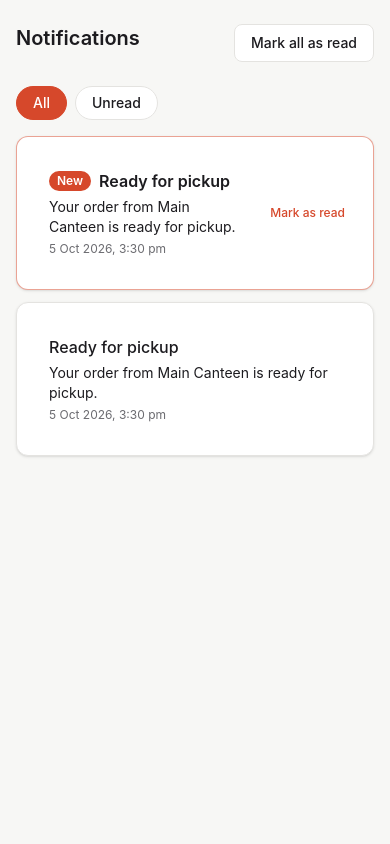
Test: NotificationsView — All / Unread › All is selected first; Unread asks the backend for unread ones only
Click the button "Unread": {"x": 116, "y": 103} x1=75 y1=86 x2=158 y2=120
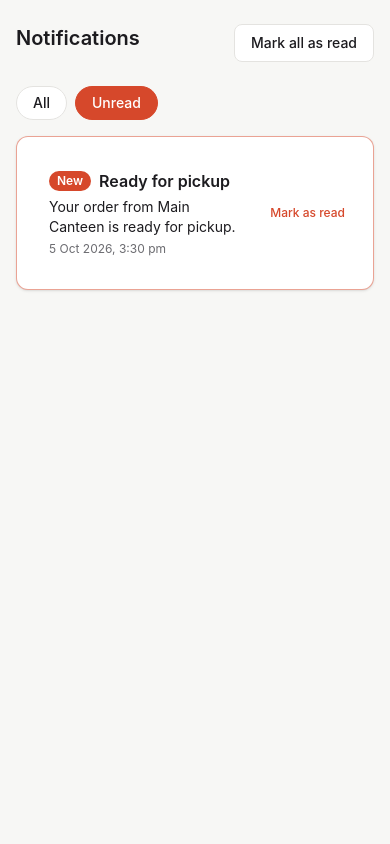
Expected: the number of list items is 1, x1=16 y1=136 x2=374 y2=290
